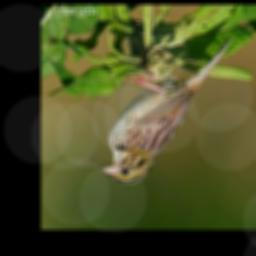Sparrow: (99, 34, 235, 186)
